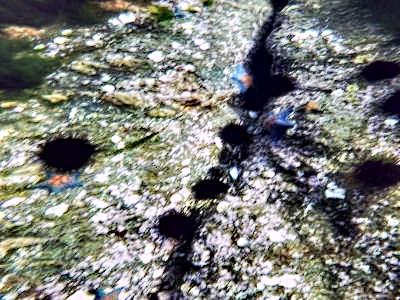urchin: (42, 134, 91, 168), (357, 159, 395, 188), (262, 74, 296, 99), (364, 59, 393, 83), (157, 212, 190, 233), (194, 179, 226, 200), (220, 124, 243, 145)
